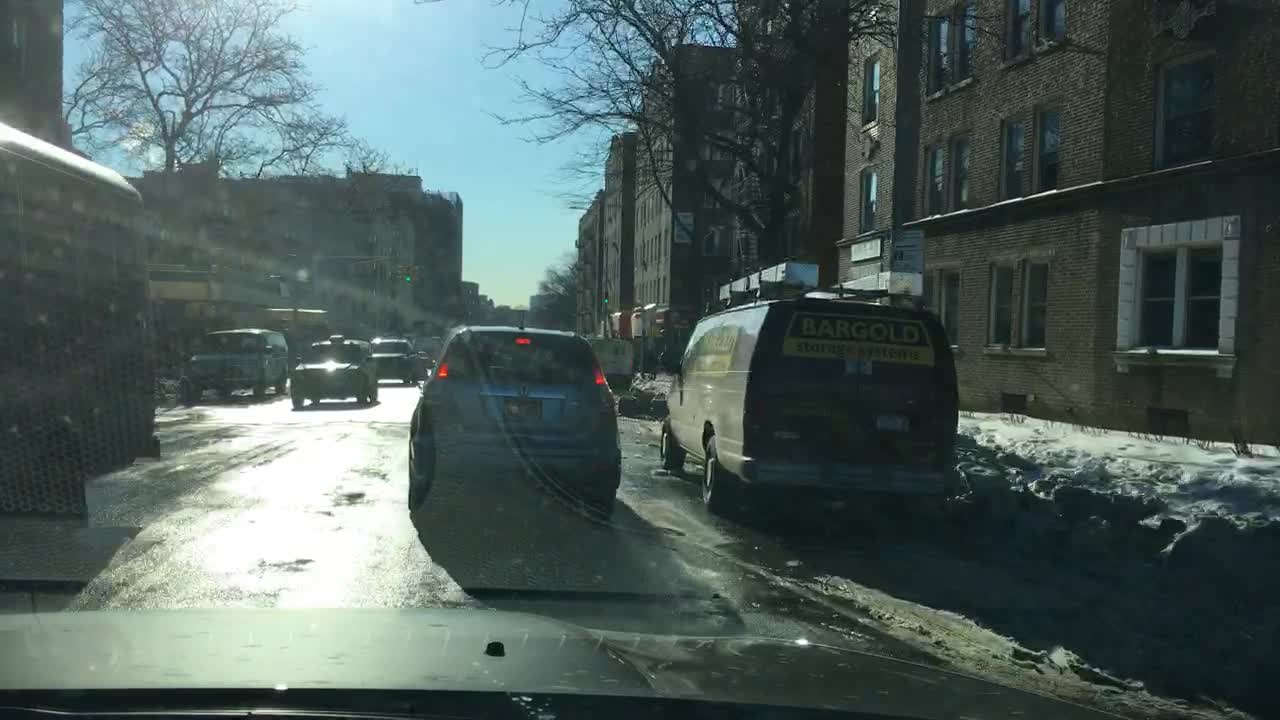bus: (0, 124, 158, 479)
car: (407, 320, 621, 523), (187, 329, 287, 400), (293, 339, 376, 409), (371, 334, 415, 383), (409, 334, 446, 362)
traffic light: (403, 261, 411, 282), (393, 262, 403, 278), (602, 289, 608, 303)
truck: (659, 261, 958, 522), (589, 334, 635, 381)
